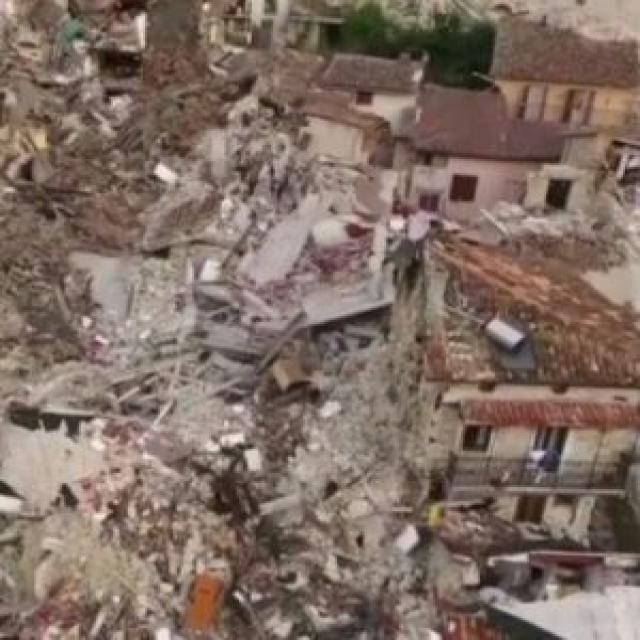collapsed_building: (13, 139, 380, 636)
